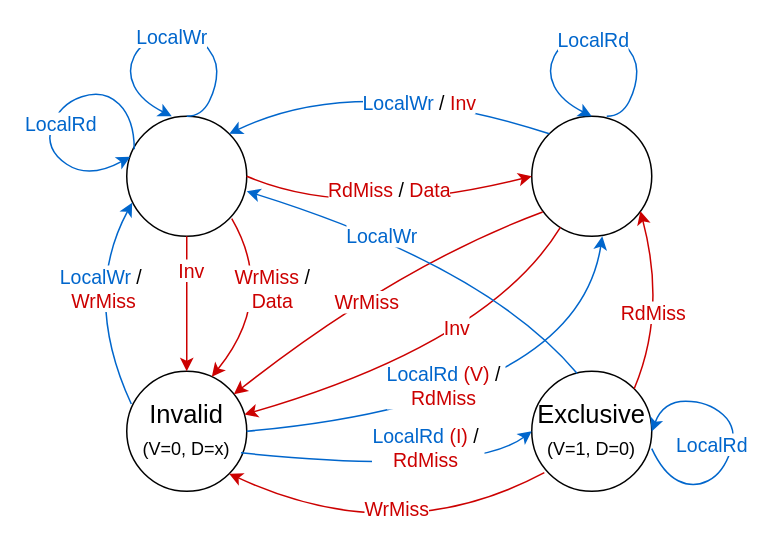
Image size: 774x548. Some labels were removed from this diagram. The centre of each missing label's shape, as x and y in pixels:
"Modified (V=1, D=1)" belongs at [186,175].
"Shared (V=1, D=0)" belongs at [591,175].
